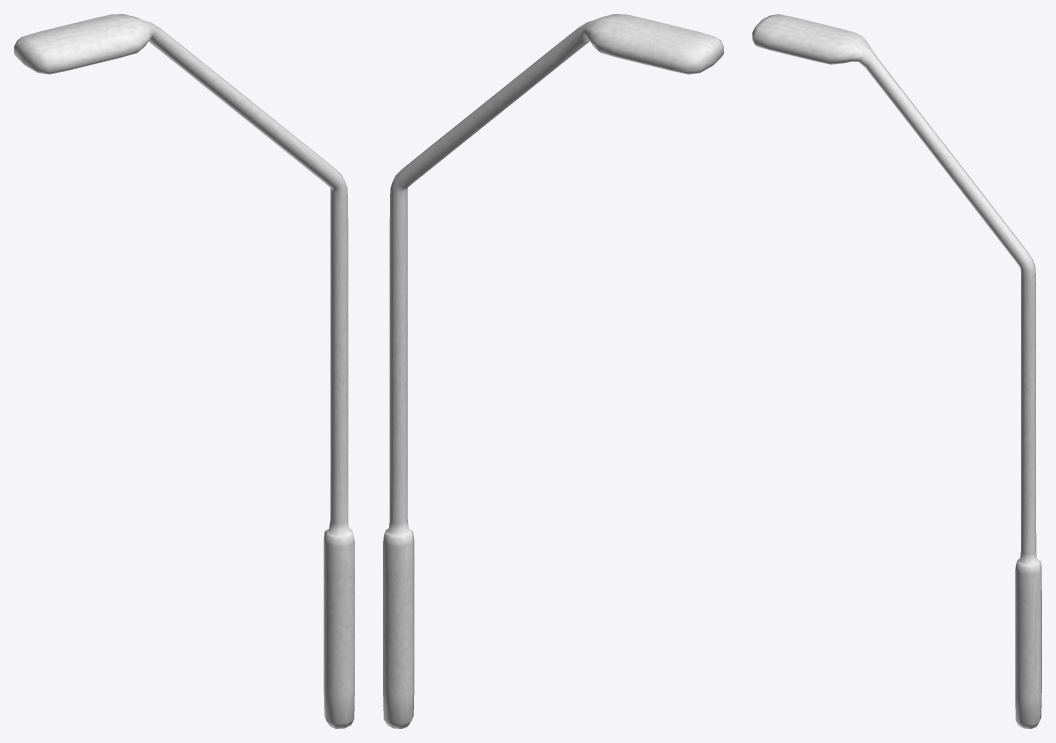
File: Streetlight.glb
3 views of the same model, side by side, from view 1: azimuth 30°, elevation 25°; view 2: azimuth 150°, elevation 25°; view 3: azimuth 330°, elevation 25° (orthographic). The views are drawn at different scales.
Parts seen in each view (by area): view 1: Body; view 2: Body; view 3: Body.
Boxes of the visible parts, bbox=[...] form: Body: bbox=[14, 14, 354, 728]; Body: bbox=[383, 14, 723, 728]; Body: bbox=[752, 14, 1041, 728].
Bounding box in the file's own units: 3.05 × 6.7 × 0.5539.
2 materials, 1 textured.
